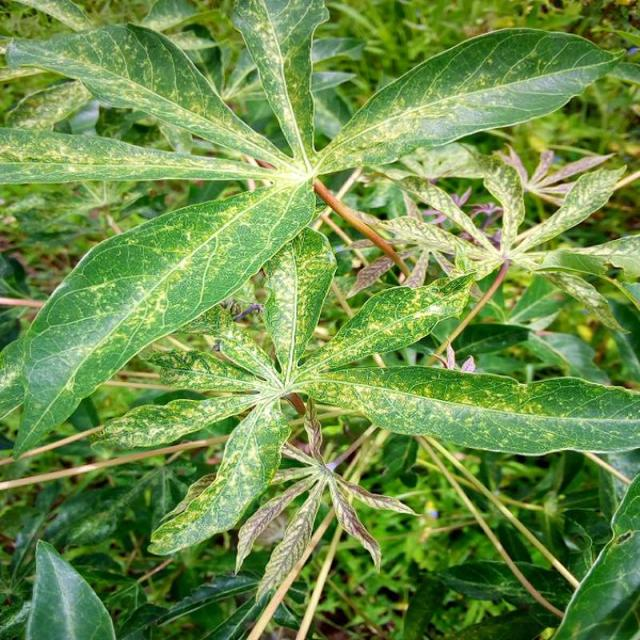cassava leaf: (1, 1, 638, 634), (7, 176, 316, 460), (305, 362, 639, 456)
